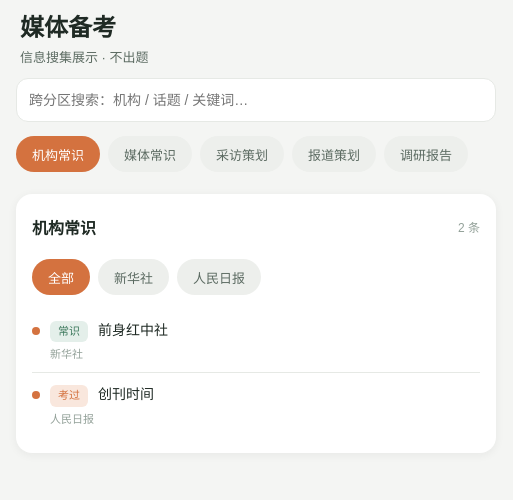
Test: MediaView 媒体备考 › 默认渲染机构常识分区，其余分区隐藏；展开显示详情
Click the element with class "case-row" showing "常识 前身红中社 新华社" at {"x": 256, "y": 341}, box [32,309,480,373]
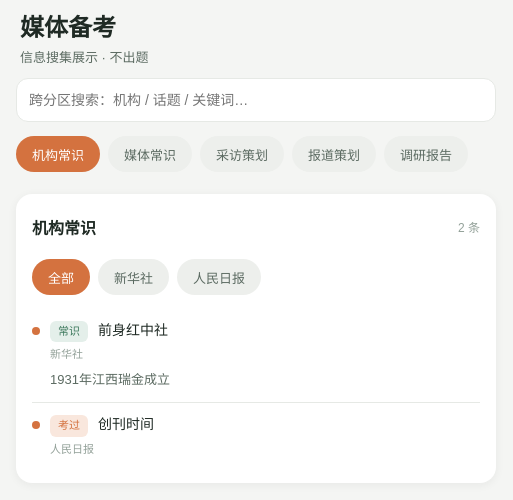
Expected: the text "1931年江西瑞金成立" is shown, [50,372,170,387]
